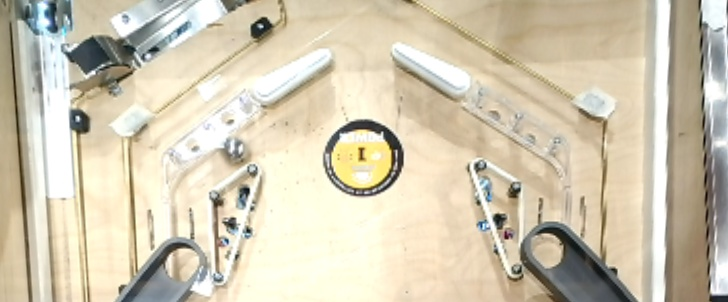ball: (219, 135, 251, 167)
flipper-left: (391, 41, 473, 104)
flipper-right: (251, 44, 335, 107)
